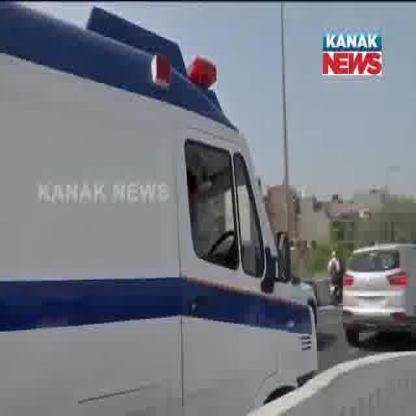priority: (0, 2, 326, 416)
